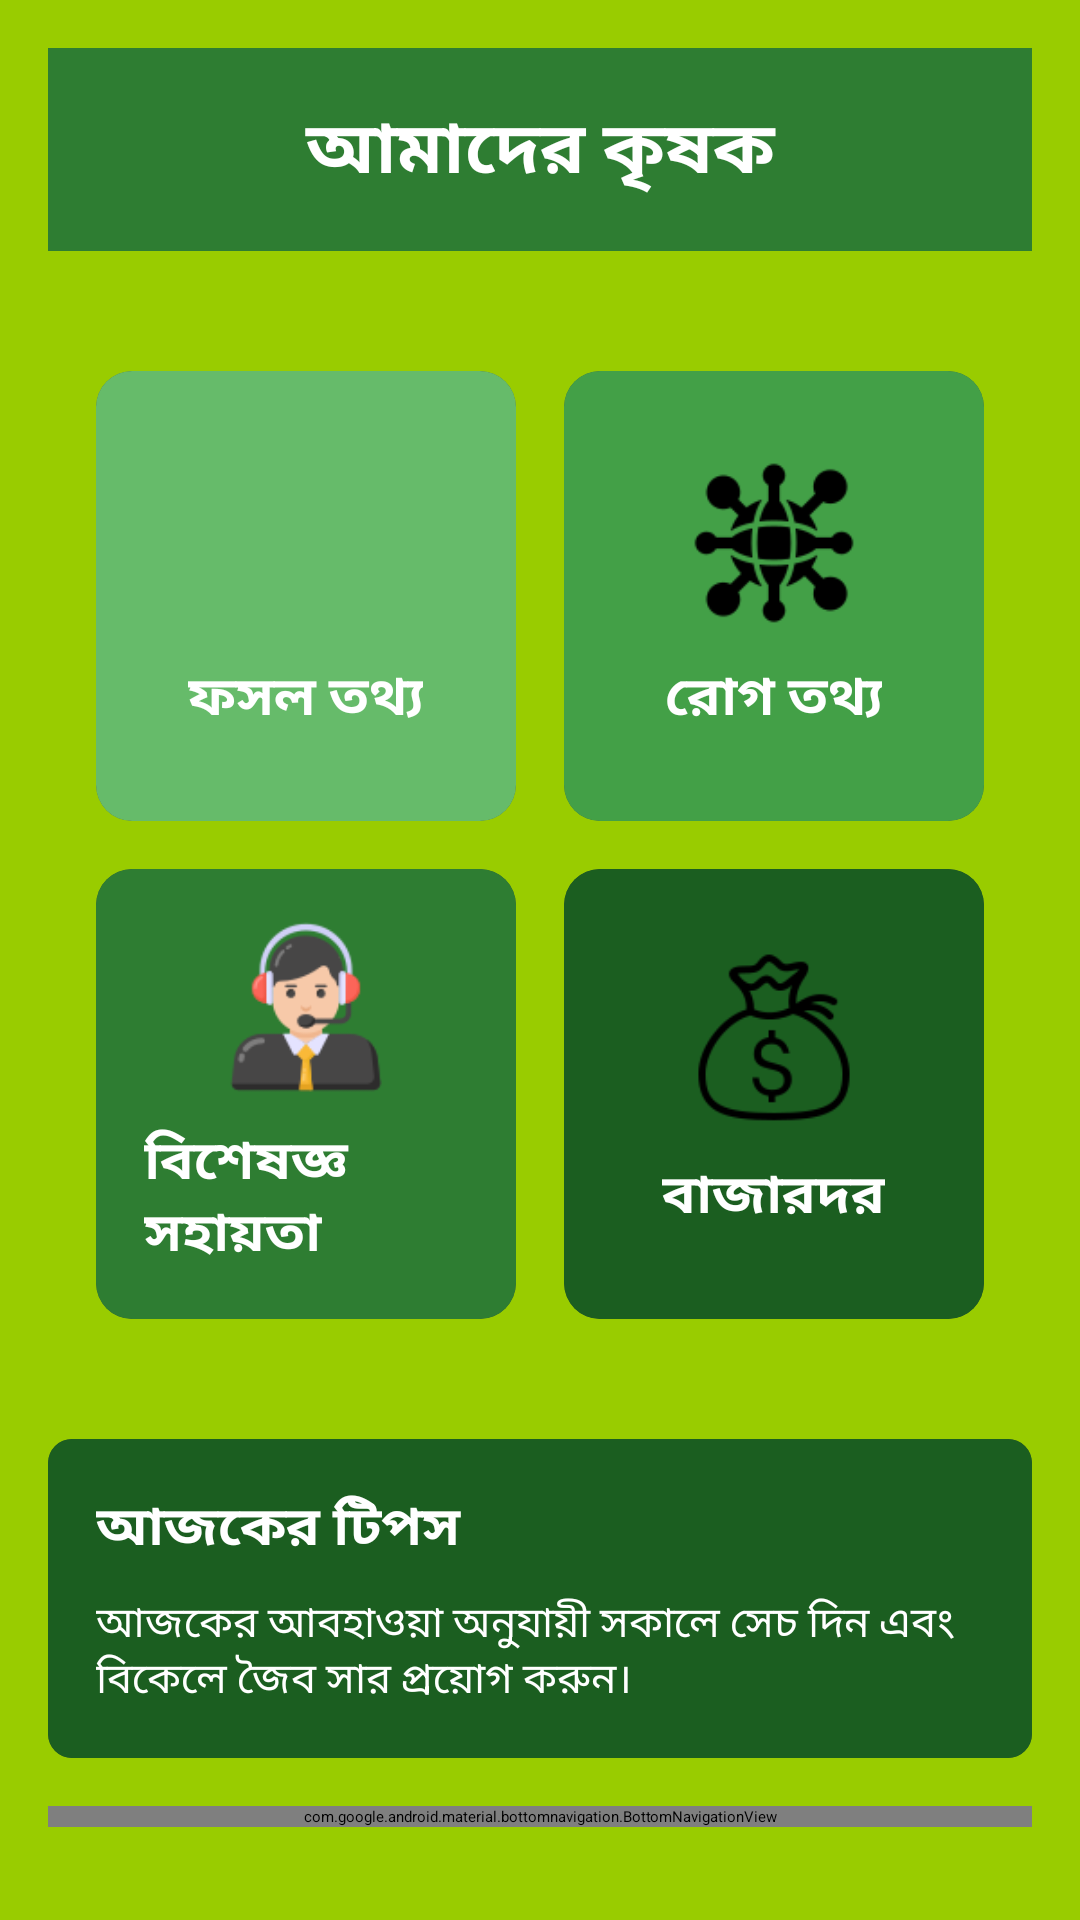

Icon click points for this 1080*1920 phone screenshot, format [x,y]:
diseases: [774,543]
helpline: [306,1007]
market price: [774,1037]
